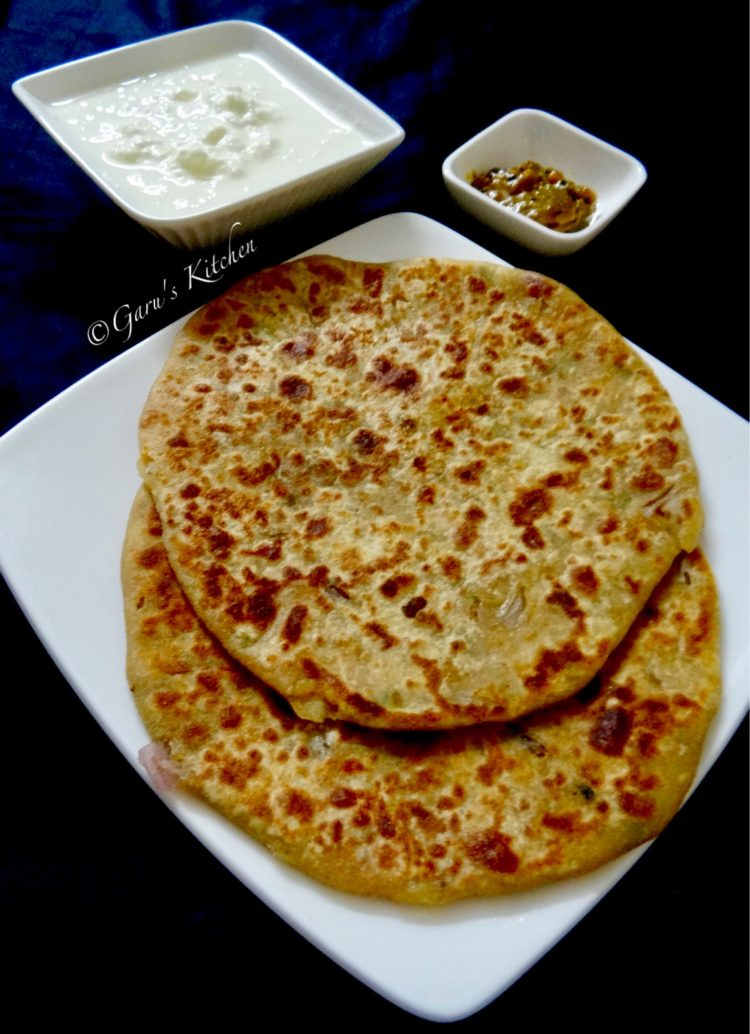aloo_paratha: (122, 251, 724, 911)
